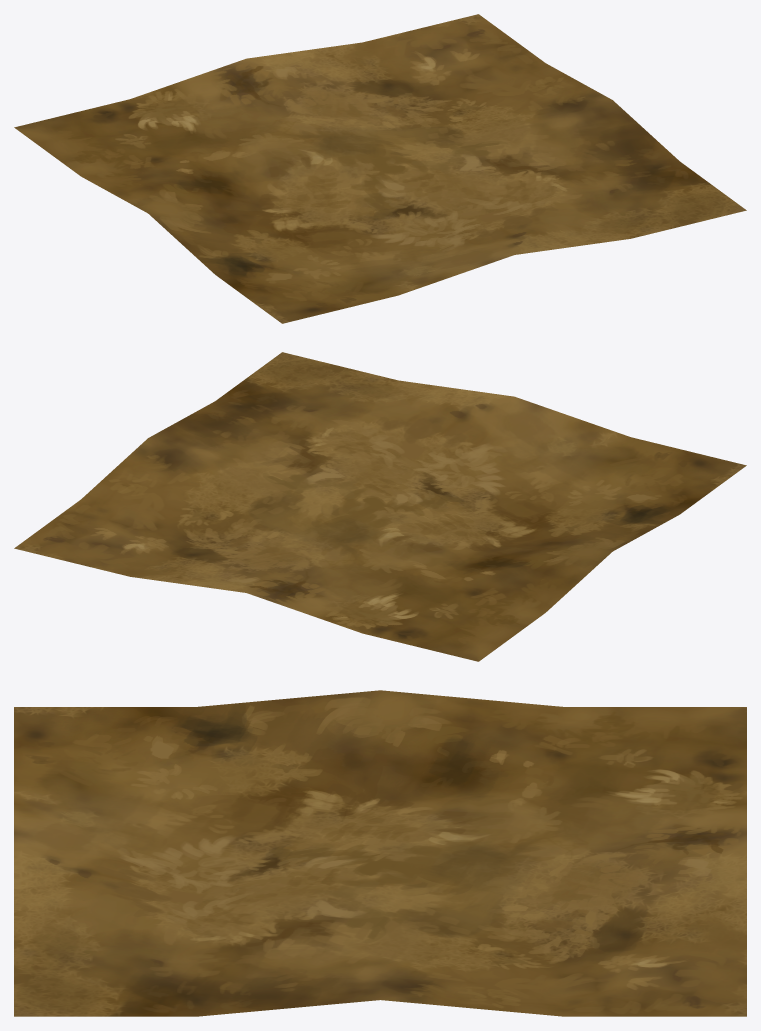
3 renders of one model, top to bottom at view 1: azimuth 30°, elevation 25°; view 2: azimuth 150°, elevation 25°; view 3: azimuth 270°, elevation 25°, orthographic. The views are drawn at different scales.
Visible parts, largest first — view 1: Plane_001; view 2: Plane_001; view 3: Plane_001.
Boxes of the visible parts, x1,y1,x2,y2 form: Plane_001: [14, 14, 746, 323]; Plane_001: [14, 352, 746, 661]; Plane_001: [14, 690, 746, 1016].
Size of the model in its own units: 10 by 0.5 by 10.
Materials: 1 (1 with a texture image).
